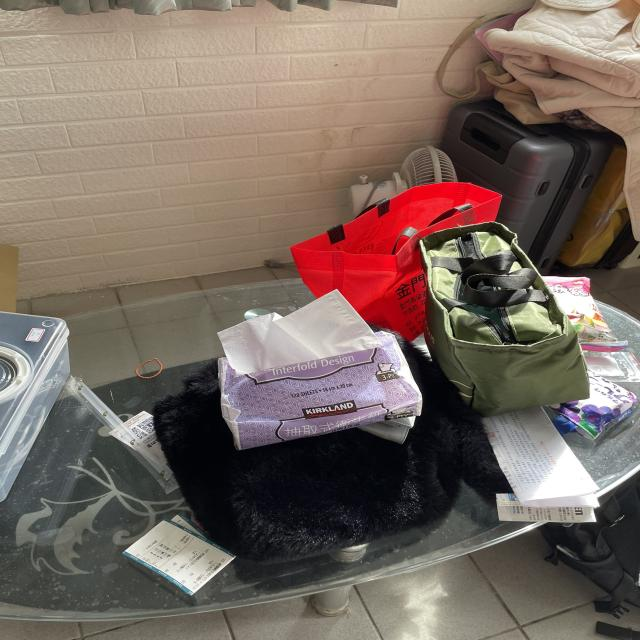tissue: (195, 286, 426, 452)
